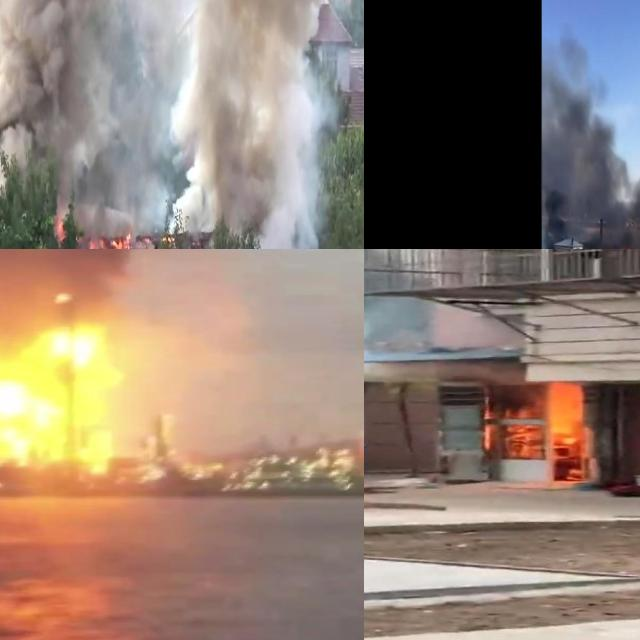fire: (0, 311, 123, 476), (475, 383, 593, 463), (85, 227, 171, 249), (53, 210, 67, 242)
smoke: (0, 0, 329, 218), (175, 0, 328, 249), (542, 29, 627, 235), (364, 289, 400, 366), (628, 173, 640, 235)
